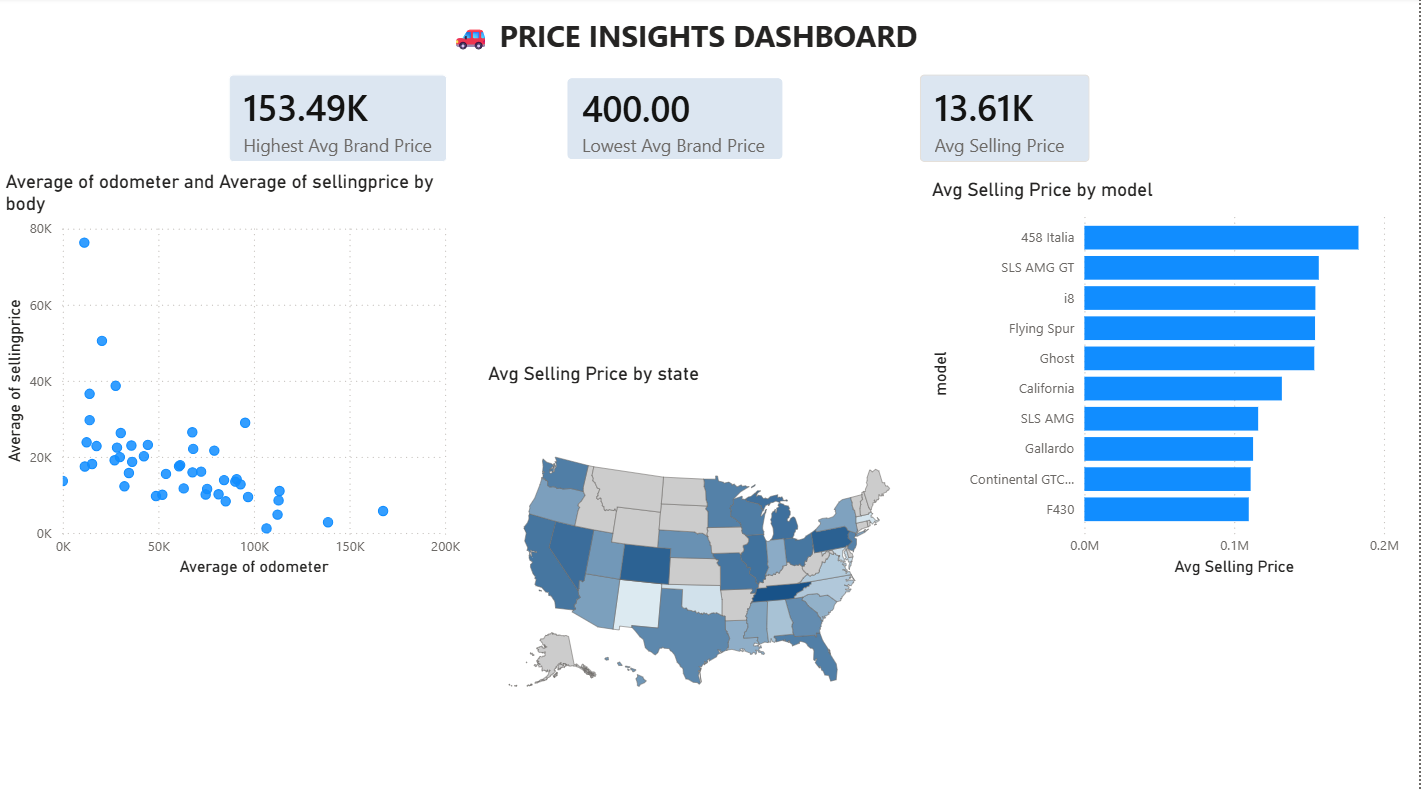

This screenshot's page, from the dashboard's own definition file:
{"tool":"powerbi","page":{"name":"Page 3","canvas":[1280,720],"ordinal":2},"visuals":[{"type":"textbox","box":[401.3,11.3,433.9,82.3],"z":0},{"type":"cardVisual","fields":{"Data":["car_prices.Highest Avg Brand Price"]},"box":[189.5,52.6,231.1,113.7],"z":1000},{"type":"cardVisual","fields":{"Data":["car_prices.Lowest Avg Brand Price"]},"box":[495.2,56.3,228.7,107.6],"z":2000},{"type":"cardVisual","fields":{"Data":["car_prices.Avg Selling Price"]},"box":[813.2,52.6,187.1,113.7],"z":3000},{"type":"scatterChart","fields":{"X":["Avg(car_prices.odometer)"],"Y":["Avg(car_prices.sellingprice)"],"Category":["car_prices.body"]},"box":[0,156.8,420.5,370.6],"z":4000},{"type":"clusteredBarChart","fields":{"Category":["car_prices.model"],"Y":["car_prices.Avg Selling Price"]},"box":[835.3,163.9,431.9,363.5],"z":5000},{"type":"shapeMap","fields":{"Category":["car_prices.state"],"Value":["car_prices.Avg Selling Price"]},"box":[435.3,328.9,391.3,359.5],"z":6000}]}

Visuals, with their boxes in screenshot pixels (x1, y1, x2, y2), scaled from the page's 1280x720 canvas onto the 1421x791 screenshot:
textbox: {"x1": 446, "y1": 12, "x2": 927, "y2": 103}
cardVisual - car_prices.Highest Avg Brand Price: {"x1": 210, "y1": 58, "x2": 467, "y2": 183}
cardVisual - car_prices.Lowest Avg Brand Price: {"x1": 550, "y1": 62, "x2": 804, "y2": 180}
cardVisual - car_prices.Avg Selling Price: {"x1": 903, "y1": 58, "x2": 1110, "y2": 183}
scatterChart - Avg(car_prices.odometer) x Avg(car_prices.sellingprice): {"x1": 0, "y1": 172, "x2": 467, "y2": 579}
clusteredBarChart - car_prices.model x car_prices.Avg Selling Price: {"x1": 927, "y1": 180, "x2": 1407, "y2": 579}
shapeMap - car_prices.state x car_prices.Avg Selling Price: {"x1": 483, "y1": 361, "x2": 918, "y2": 756}
